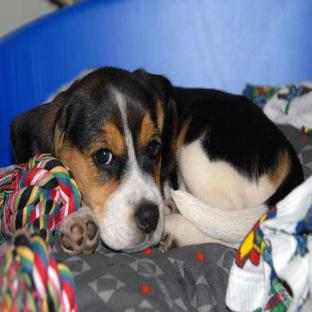Animal: (11, 67, 303, 252)
